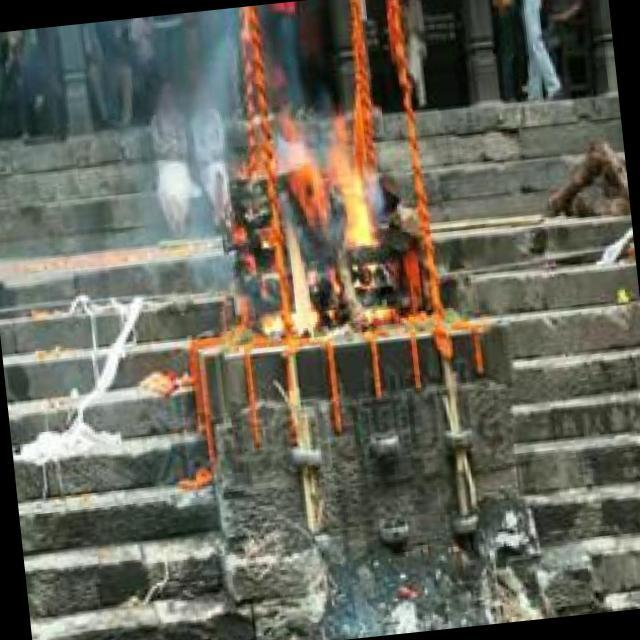Fire: (264, 121, 392, 343)
